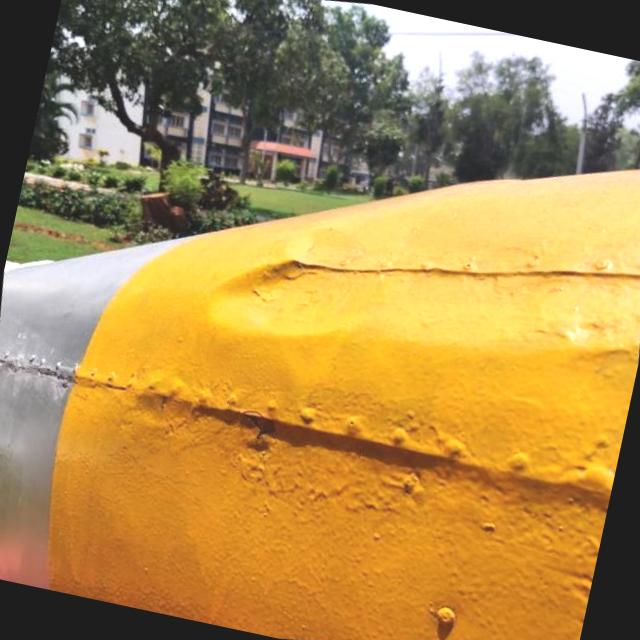dent: (198, 237, 372, 366)
